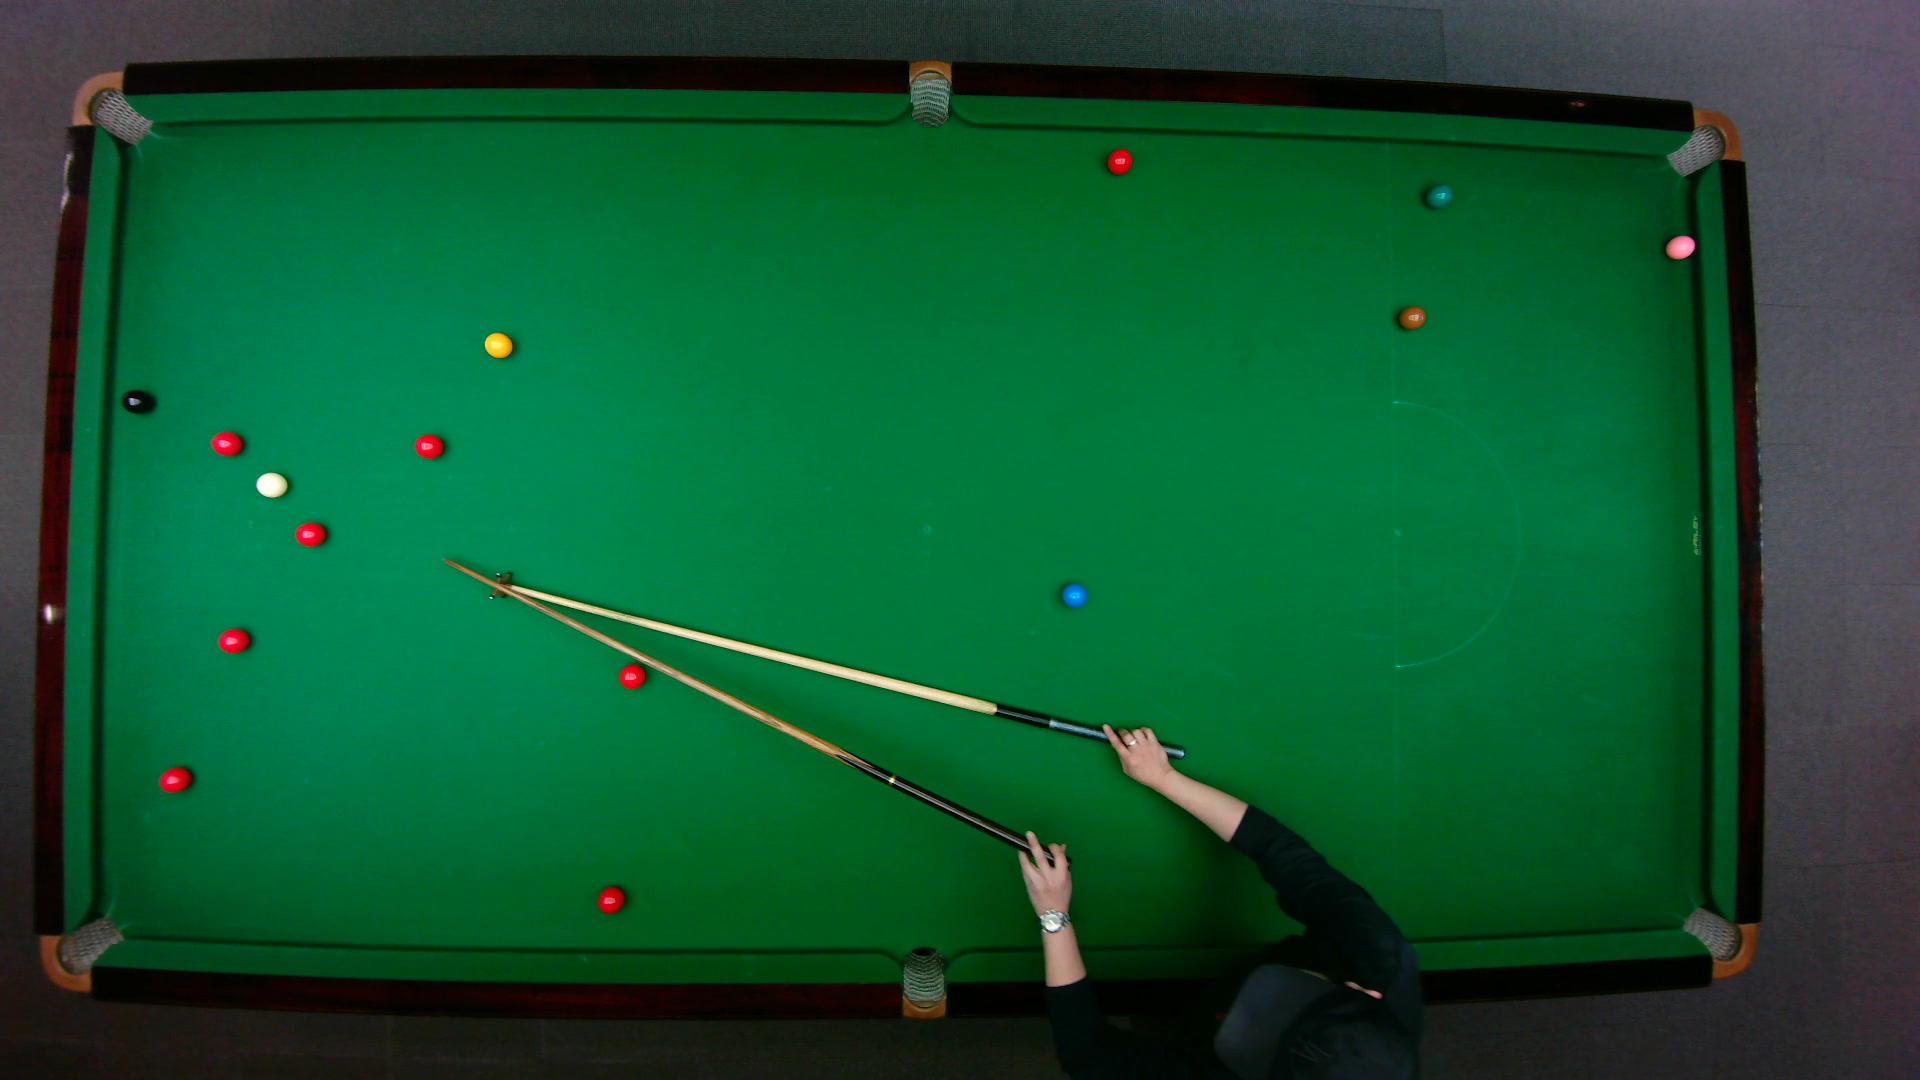bag: (38, 914, 125, 992), (69, 69, 153, 145), (1679, 905, 1756, 978), (1663, 107, 1742, 177), (899, 945, 944, 1021), (909, 58, 949, 127)
black: (119, 388, 152, 414)
blue: (1059, 582, 1088, 608)
brown: (1396, 305, 1427, 330)
cue: (436, 550, 1077, 876)
green: (1423, 182, 1453, 208)
pink: (1663, 232, 1697, 260)
red: (208, 429, 244, 458), (156, 765, 193, 793), (291, 520, 326, 547), (215, 626, 251, 653), (595, 884, 625, 914), (411, 433, 444, 459), (1105, 146, 1133, 175), (617, 663, 645, 688)
white: (253, 469, 289, 498)
yellow: (483, 330, 513, 357)
zone: (1390, 400, 1520, 667)
